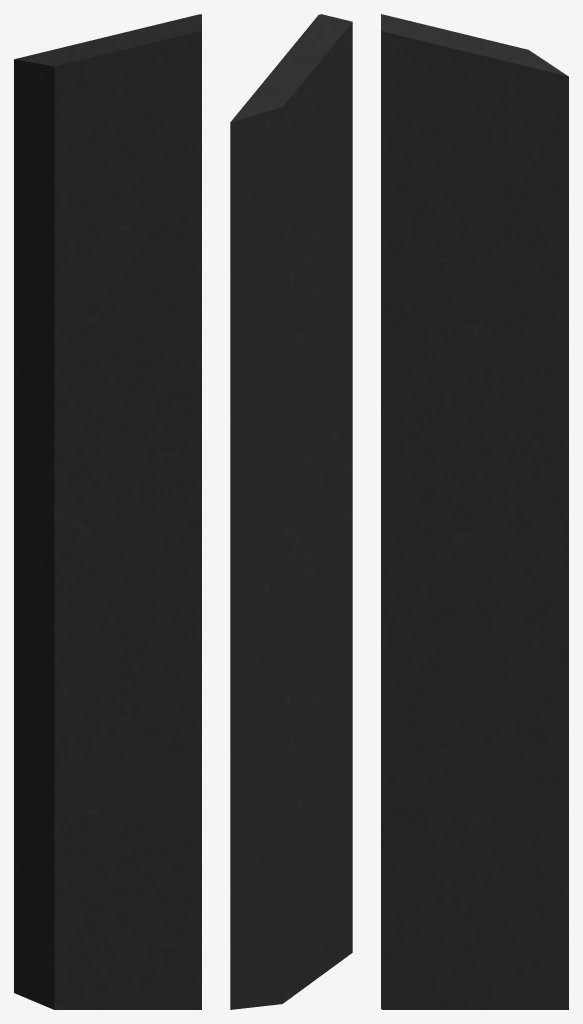
The model's file is A13.1.1 H.WALL. PNL 4024 CL.E.fbx.
3 views of the same model, side by side, from view 1: azimuth 90°, elevation 25°; view 2: azimuth 150°, elevation 25°; view 3: azimuth 270°, elevation 25° (orthographic). The views are drawn at different scales.
Parts seen in each view (by area): view 1: Model; view 2: Model; view 3: Model.
Boxes of the visible parts, x1,y1,x2,y2 form: Model: (14,14,201,1009); Model: (230,14,352,1009); Model: (381,14,568,1009).
Bounding box in the file's own units: 150 × 4024 × 700.
